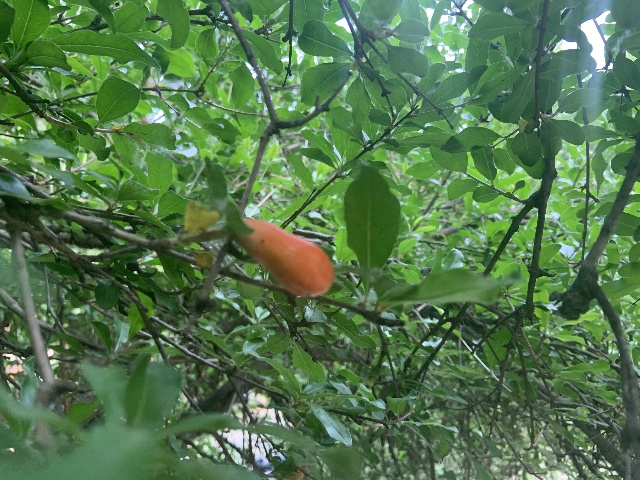bud: (236, 218, 333, 296)
